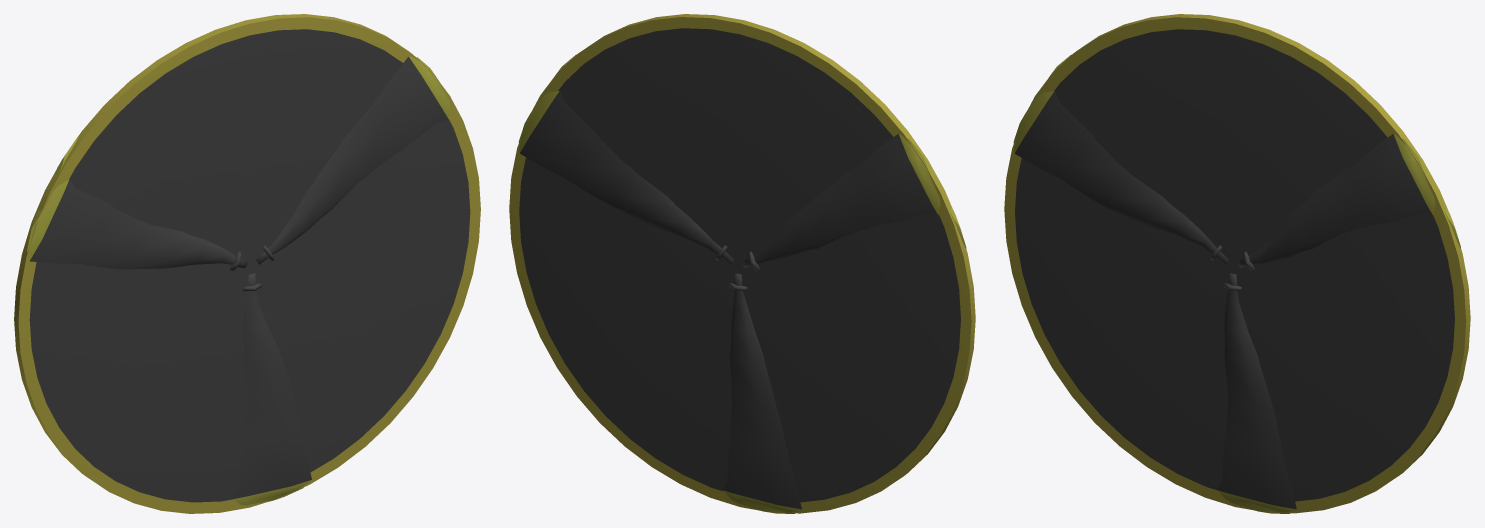
The model's file is B17_propeller_fast.glb.
The picture shows the model from 3 angles, left to right: view 1: azimuth 30°, elevation 25°; view 2: azimuth 150°, elevation 25°; view 3: azimuth 330°, elevation 25°; orthographic projection.
Visible parts, largest first — view 1: Cylinder.012, Cylinder.005; view 2: Cylinder.012, Cylinder.005; view 3: Cylinder.012, Cylinder.005.
Part boxes in pixels (x1,y1,x2,y2): Cylinder.012: [14, 14, 480, 513]; Cylinder.005: [27, 56, 450, 505]; Cylinder.012: [509, 14, 975, 513]; Cylinder.005: [518, 55, 966, 513]; Cylinder.012: [1004, 14, 1470, 513]; Cylinder.005: [1013, 54, 1460, 513].
Bounding box in the file's own units: 3.1 × 3.1 × 0.1772.
